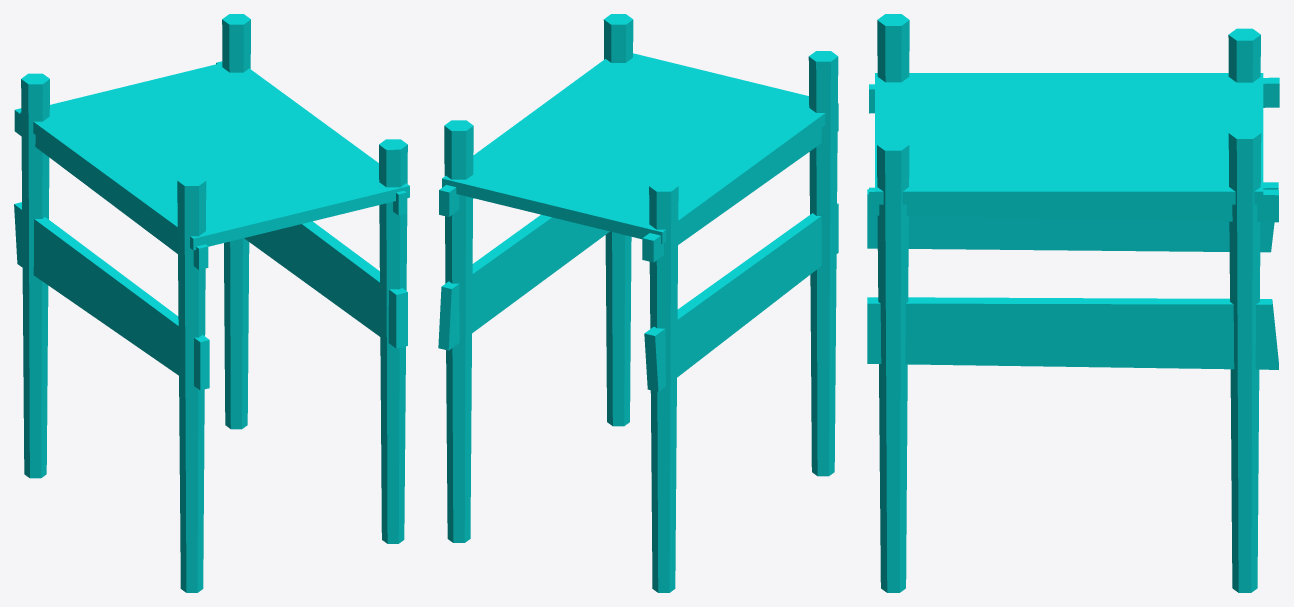
File: SM_Bld_Dock_Wood_Straight_01_Collision.fbx
3 views of the same model, side by side, from view 1: azimuth 30°, elevation 25°; view 2: azimuth 150°, elevation 25°; view 3: azimuth 270°, elevation 25° (orthographic). The views are drawn at different scales.
Visible parts, largest first — view 1: SM_Bld_Dock_Wood_Straight_01_Collision; view 2: SM_Bld_Dock_Wood_Straight_01_Collision; view 3: SM_Bld_Dock_Wood_Straight_01_Collision.
Boxes of the visible parts, x1=… form: SM_Bld_Dock_Wood_Straight_01_Collision: x1=14, y1=14, x2=409, y2=592; SM_Bld_Dock_Wood_Straight_01_Collision: x1=438, y1=14, x2=838, y2=592; SM_Bld_Dock_Wood_Straight_01_Collision: x1=867, y1=14, x2=1279, y2=592.
Bounding box in the file's own units: 260 × 454 × 370.
